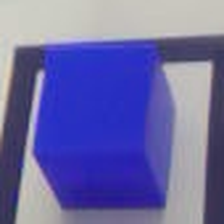cube: (28, 33, 180, 216)
